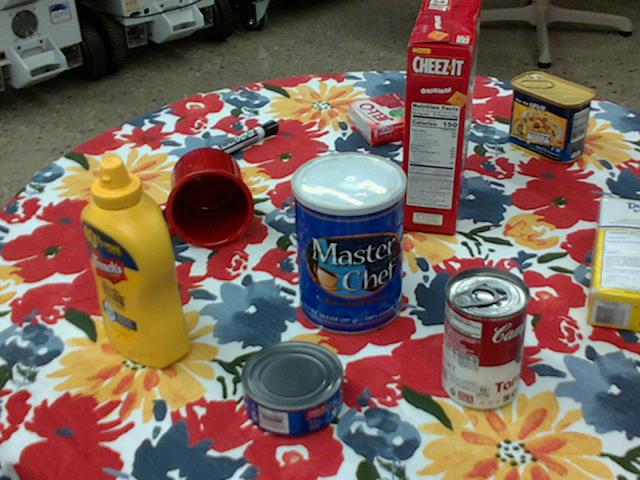cracker_box: (401, 0, 481, 233)
gelatin_box: (344, 93, 422, 146)
large_marker: (200, 118, 276, 162)
master_chef_can: (290, 152, 405, 336)
mug: (152, 147, 254, 249)
mustard_bottle: (80, 158, 191, 367)
potted_meat_can: (508, 70, 594, 161)
sugar_box: (586, 196, 639, 331)
tomato_soup_can: (442, 265, 529, 410)
tuna_fish_can: (237, 340, 340, 436)
